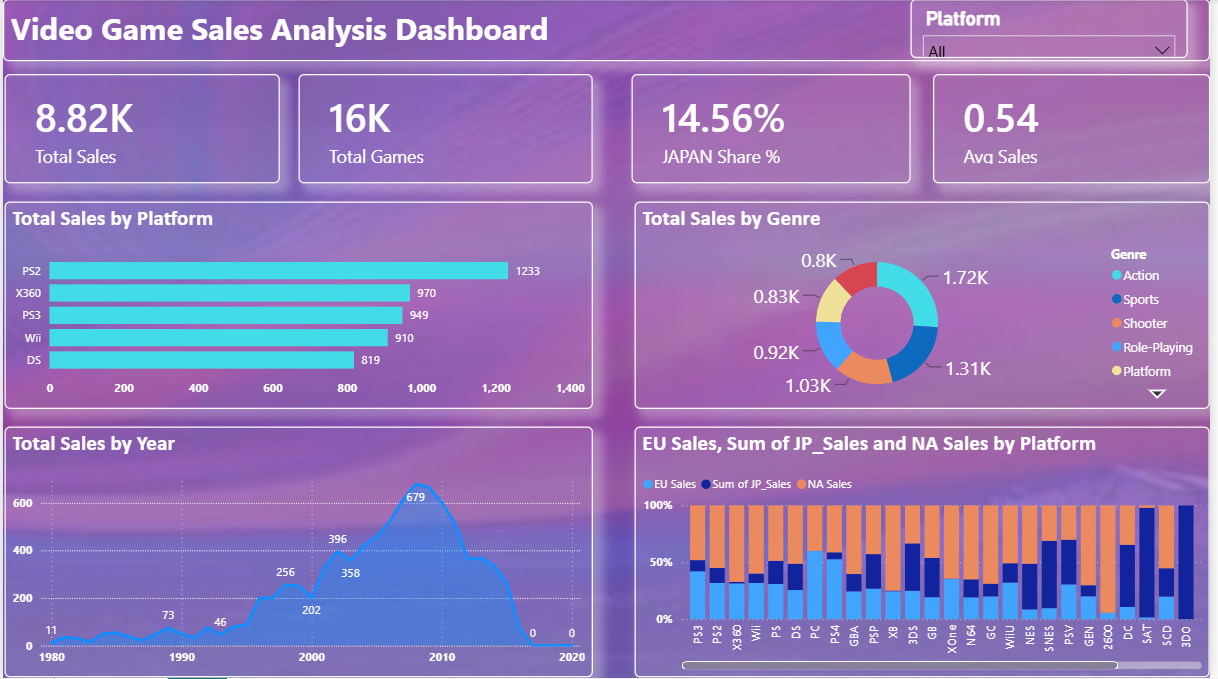

The page's visual inventory and layout, read from the dashboard file:
{"tool":"powerbi","page":{"name":"Page 1","canvas":[1280,720],"ordinal":0},"visuals":[{"type":"cardVisual","fields":{"Data":["vgsales.Total Sales"]},"box":[2,80,292,116],"z":0},{"type":"cardVisual","fields":{"Data":["vgsales.Total Games"]},"box":[314,80,312,116],"z":1000},{"type":"cardVisual","fields":{"Data":["vgsales.JP Share %"]},"box":[666,80,296,116],"z":2000},{"type":"cardVisual","fields":{"Data":["vgsales.Avg Sales"]},"box":[986,80,294,116],"z":3000},{"type":"clusteredBarChart","fields":{"Category":["vgsales.Platform"],"Y":["vgsales.Total Sales"]},"box":[2,214,624,220],"z":4000},{"type":"lineChart","fields":{"Category":["vgsales.Year"],"Y":["vgsales.Total Sales"]},"box":[2,454,624,266],"z":5000},{"type":"donutChart","fields":{"Category":["vgsales.Genre"],"Y":["vgsales.Total Sales"]},"box":[670,214,610,220],"z":6000},{"type":"hundredPercentStackedColumnChart","fields":{"Category":["vgsales.Platform"],"Y":["vgsales.EU Sales","Sum(vgsales.JP_Sales)","vgsales.NA Sales"]},"box":[670,454,610,266],"z":7000},{"type":"textbox","box":[0,0,1280,66],"z":8000},{"type":"slicer","fields":{"Values":["vgsales.Platform"]},"box":[962,0,294.1,62.7],"z":9000}]}

Visuals, with their boxes in screenshot pixels (x1, y1, x2, y2), scaled from the page's 1280x720 canvas onto the 1218x679 screenshot:
cardVisual - vgsales.Total Sales: (left=2, top=75, right=280, bottom=185)
cardVisual - vgsales.Total Games: (left=299, top=75, right=596, bottom=185)
cardVisual - vgsales.JP Share %: (left=634, top=75, right=915, bottom=185)
cardVisual - vgsales.Avg Sales: (left=938, top=75, right=1217, bottom=185)
clusteredBarChart - vgsales.Platform x vgsales.Total Sales: (left=2, top=202, right=596, bottom=409)
lineChart - vgsales.Year x vgsales.Total Sales: (left=2, top=428, right=596, bottom=678)
donutChart - vgsales.Genre x vgsales.Total Sales: (left=638, top=202, right=1217, bottom=409)
hundredPercentStackedColumnChart - vgsales.Platform x vgsales.EU Sales: (left=638, top=428, right=1217, bottom=678)
textbox: (left=0, top=0, right=1217, bottom=62)
slicer - vgsales.Platform: (left=915, top=0, right=1195, bottom=59)
